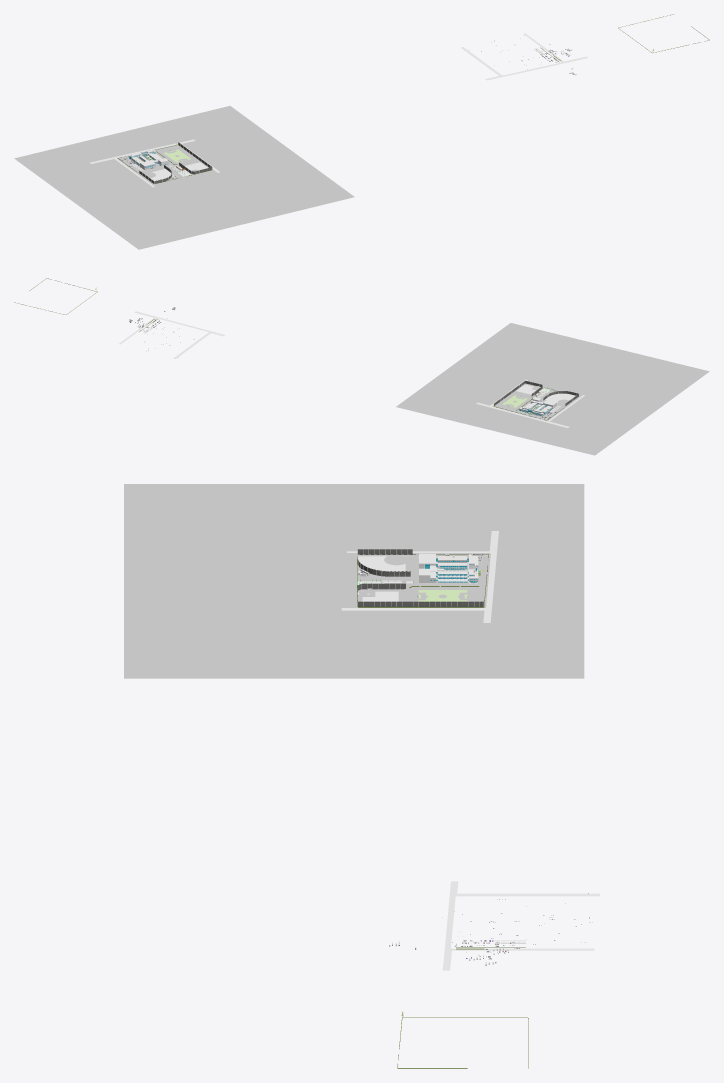
File: school_outside3.glb
The picture shows the model from 3 angles, top to bottom: view 1: azimuth 30°, elevation 25°; view 2: azimuth 150°, elevation 25°; view 3: azimuth 270°, elevation 25°; orthographic projection. The views are drawn at different scales.
Parts seen in each view (by area): view 1: 平面, school_outside; view 2: 平面, school_outside; view 3: 平面, school_outside.
Boxes of the visible parts, x1,y1,x2,y2 form: 平面: (14, 106, 354, 249); school_outside: (90, 14, 709, 187); 平面: (396, 323, 709, 455); school_outside: (14, 278, 584, 427); 平面: (124, 484, 584, 678); school_outside: (341, 531, 599, 1068).
Bounding box in the file's own units: 2986 × 28.32 × 1034.
Materials: 123 (23 with a texture image).
